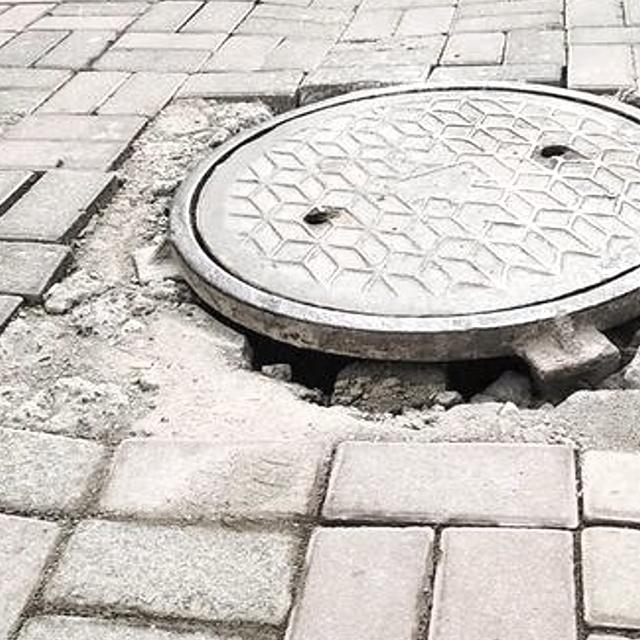circle: (0, 58, 640, 490)
